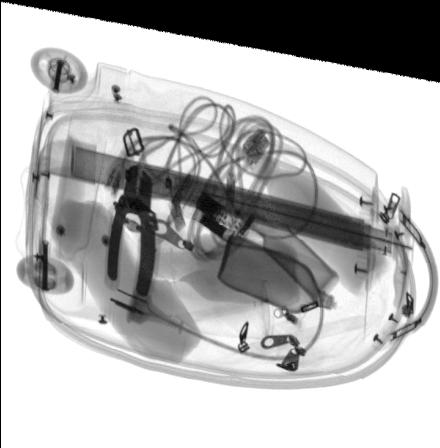Pliers: (105, 160, 155, 292)
